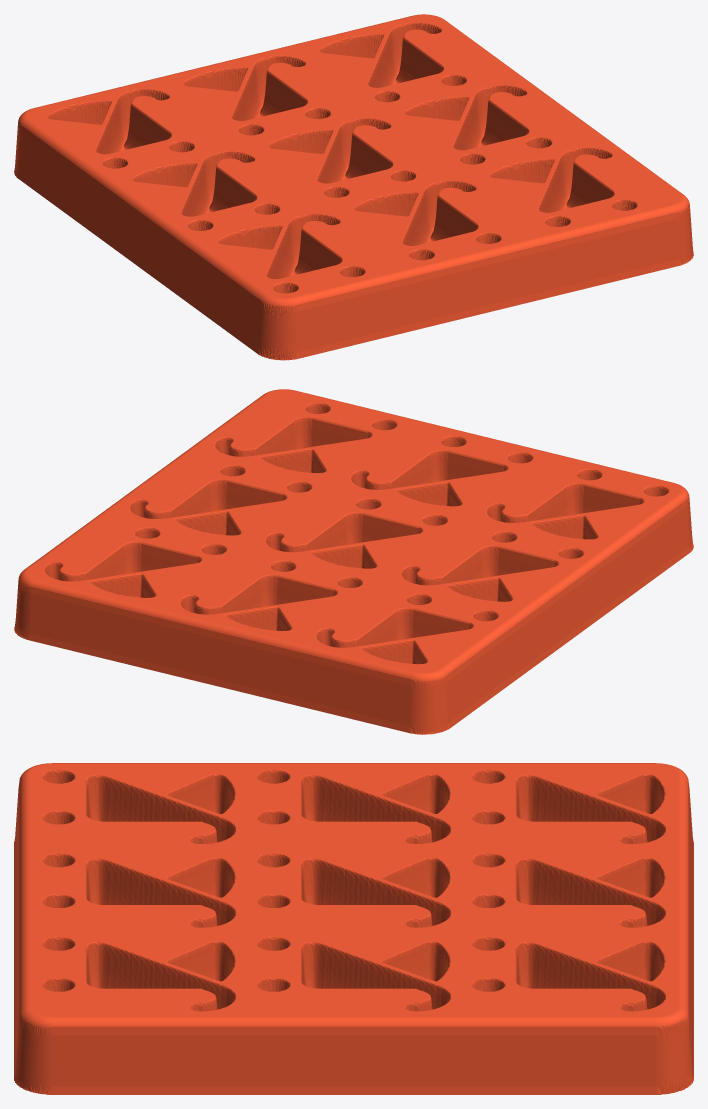
File: mold.glb
3 views of the same model, one above another, from view 1: azimuth 30°, elevation 25°; view 2: azimuth 150°, elevation 25°; view 3: azimuth 270°, elevation 25° (orthographic). The views are drawn at different scales.
Parts seen in each view (by area): view 1: geometry_0; view 2: geometry_0; view 3: geometry_0.
Boxes of the visible parts, x1,y1,x2,y2 form: geometry_0: (14,14,693,360); geometry_0: (14,389,693,734); geometry_0: (14,763,693,1094).
Size of the model in its own units: 0.1475 by 0.0185 by 0.1595.
